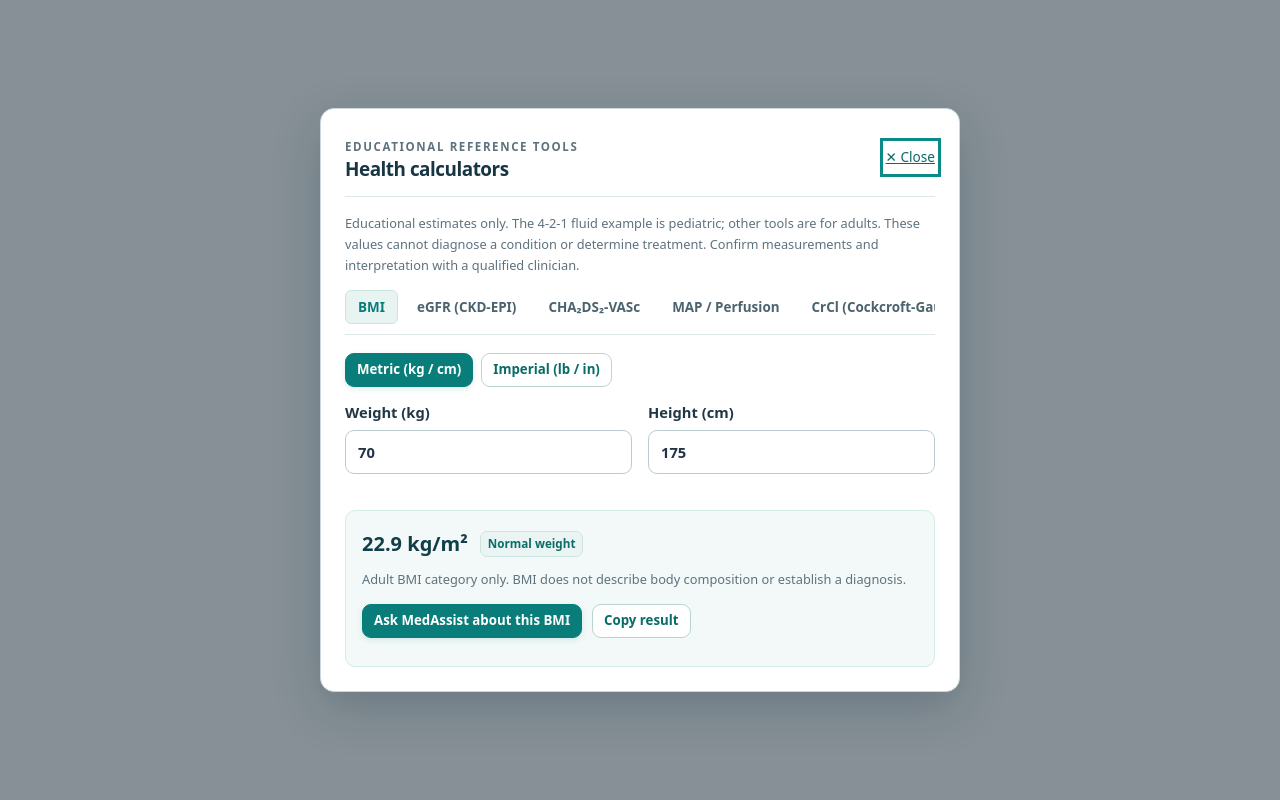
treats a single eGFR as an estimate and rejects out-of-range age
The width and height of the screenshot is (1280, 800).
Click the tab "eGFR (CKD-EPI)": (467,307) 404,290 -> 529,324
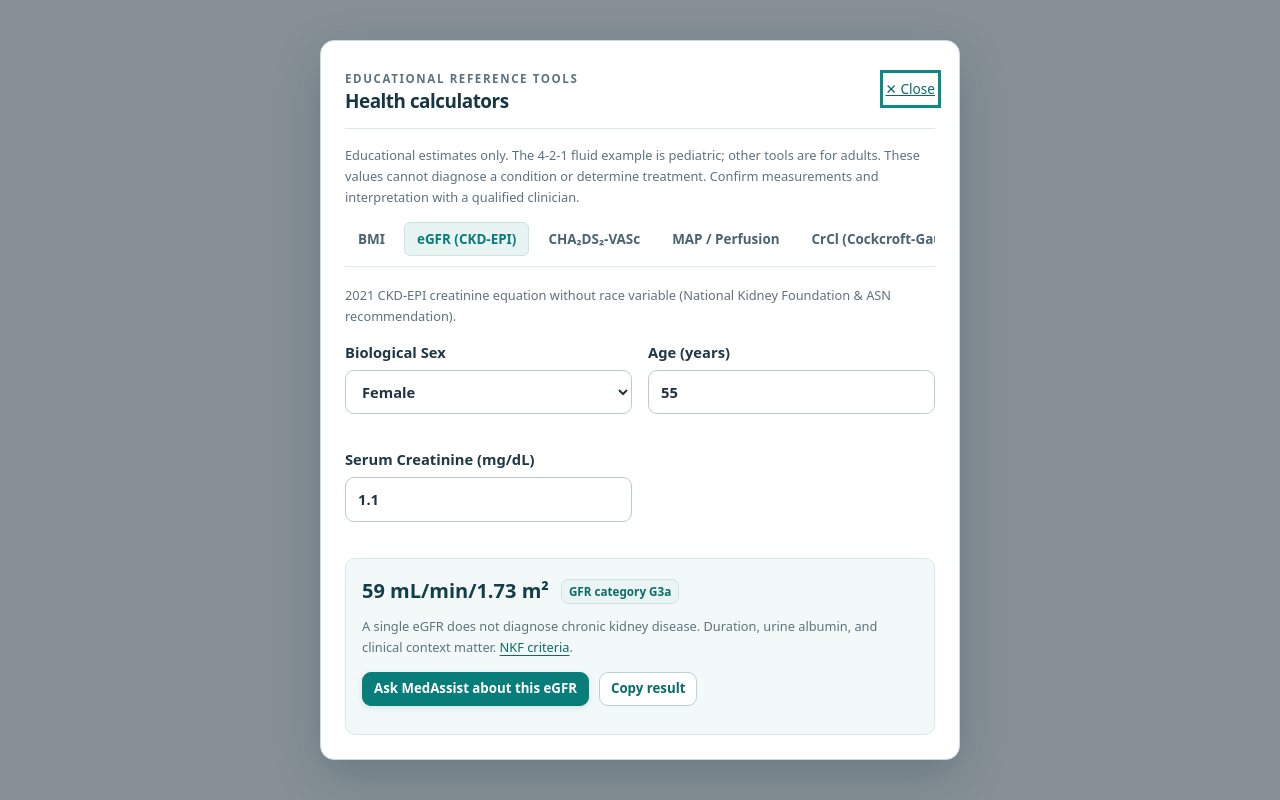
Expected: the text "single eGFR does not diagnose chronic kidney disease" is shown, 362,617 -> 877,656
Expected: the text "GFR category G3a" is shown, 561,578 -> 679,604
Replace the text in the number field labelled "Age (years)" with "15": (792,392) 648,370 -> 935,414
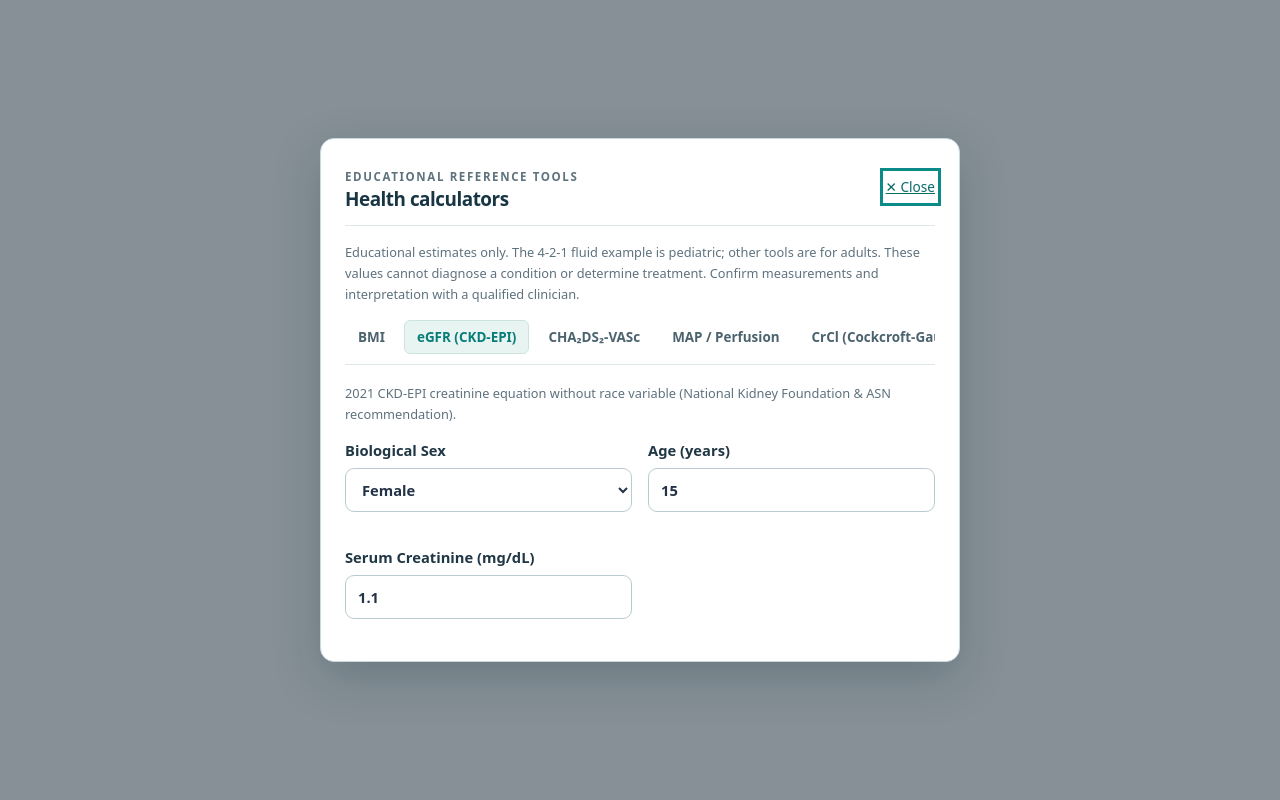
Expected: the text "GFR category G3a" is gone
